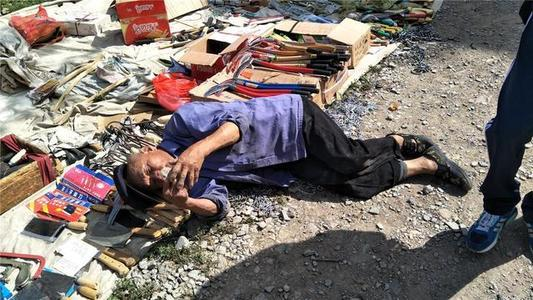down: (113, 87, 477, 225)
